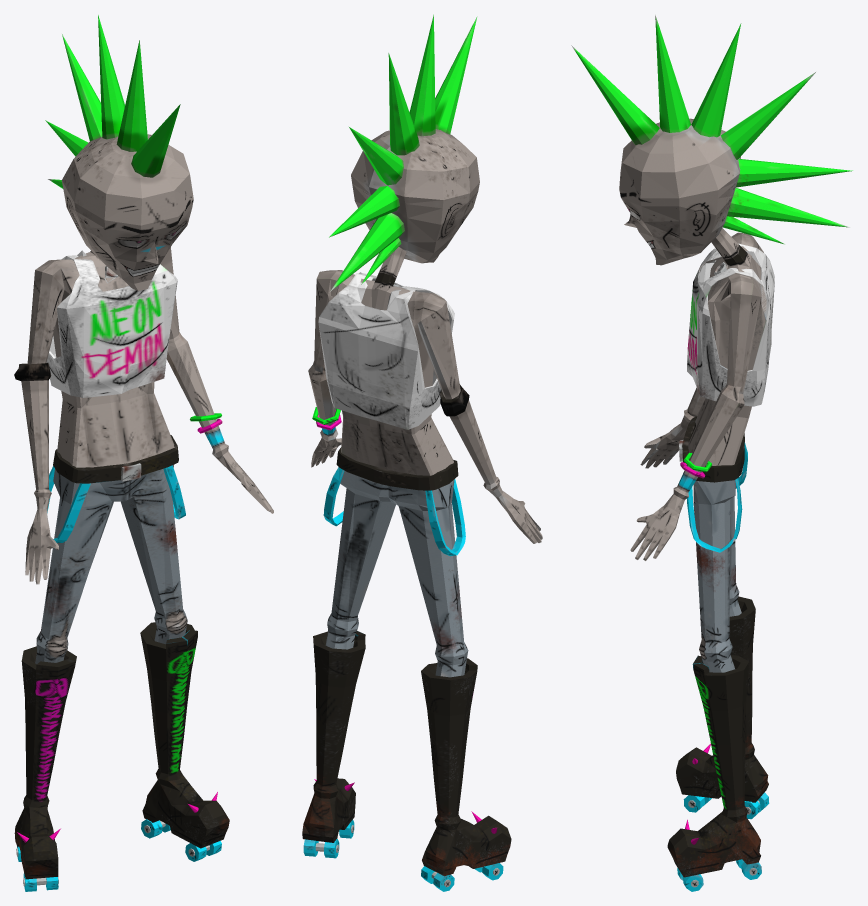
The model's file is punkAnimation_000000.obj.
The picture shows the model from 3 angles, left to right: view 1: azimuth 30°, elevation 25°; view 2: azimuth 150°, elevation 25°; view 3: azimuth 270°, elevation 25°; orthographic projection. The views are drawn at different scales.
Visible parts, largest first — view 1: Cube.004_Cube.003; view 2: Cube.004_Cube.003; view 3: Cube.004_Cube.003.
Part boxes in pixels (x1=…): Cube.004_Cube.003: x1=14, y1=15, x2=273, y2=891; Cube.004_Cube.003: x1=302, y1=14, x2=542, y2=891; Cube.004_Cube.003: x1=571, y1=15, x2=852, y2=891.
Size of the model in its own units: 2.21 by 7.57 by 2.33.
